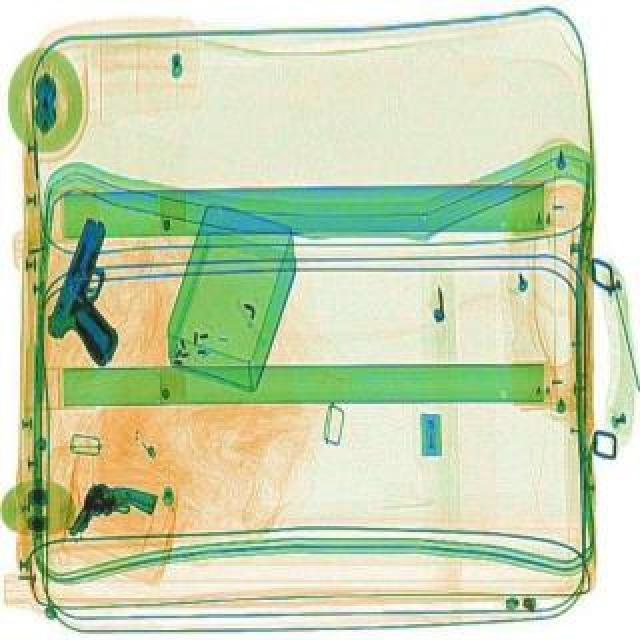gun: (36, 210, 146, 366), (64, 476, 160, 548)
